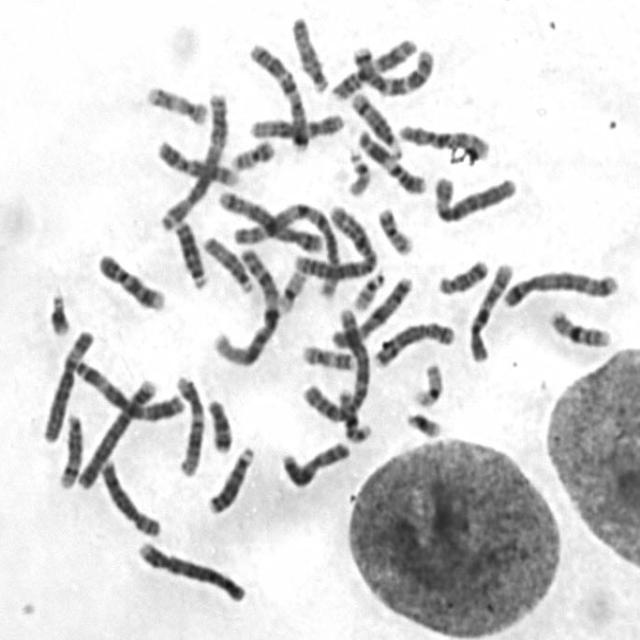A1: (213, 184, 344, 298), (207, 240, 284, 367)
A2: (298, 300, 373, 426), (292, 202, 378, 281)
A3: (154, 86, 230, 230), (70, 354, 190, 424)
B4: (74, 372, 158, 490), (133, 535, 249, 605)
B5: (214, 184, 324, 254), (498, 263, 622, 310)
C10: (464, 256, 516, 365), (394, 117, 492, 161)
C11: (329, 34, 419, 101), (353, 124, 428, 196)
C12: (172, 371, 206, 477), (246, 107, 347, 142)
C6: (38, 324, 96, 444), (428, 170, 520, 224)
C7: (245, 37, 311, 152), (346, 37, 436, 98)
C8: (96, 454, 164, 538), (369, 314, 458, 370)
C9: (152, 134, 242, 190), (92, 248, 168, 312)
D13: (203, 440, 257, 516), (170, 214, 210, 290)
D14: (348, 86, 404, 158), (54, 407, 86, 491)
D15: (288, 12, 332, 95), (199, 231, 255, 294)
E16: (544, 303, 614, 349), (334, 383, 373, 443)
E17: (140, 78, 211, 127), (299, 340, 357, 372)
E18: (434, 253, 491, 296), (203, 393, 234, 455)
F19: (410, 358, 446, 410), (274, 265, 308, 314)
F20: (373, 202, 416, 257), (228, 134, 277, 172)
G21: (44, 284, 74, 338), (401, 405, 444, 439)
G22: (349, 266, 388, 313), (343, 144, 373, 198)
X: (328, 270, 415, 351), (276, 436, 352, 490)
